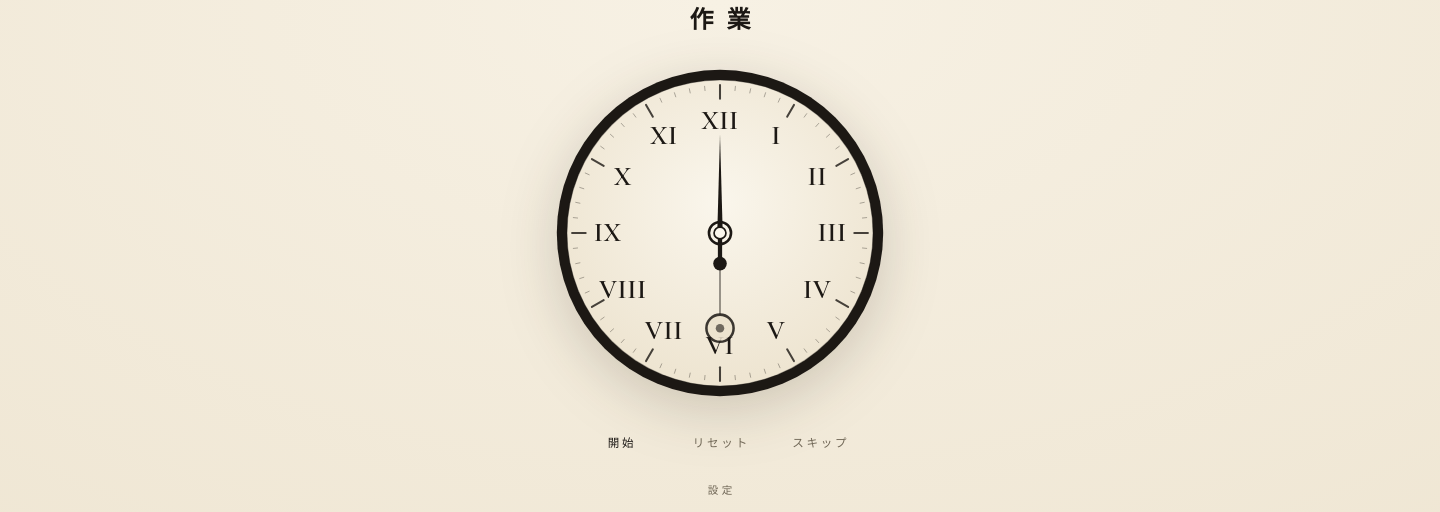
Test: PomodoroTimer › リセットで現フェーズの満了値に戻る
What coordinates should you click on to do the following:
click the button "開始"
I would click on:
 (622, 442)
Its box is x1=606 y1=431 x2=638 y2=453.
Wait 30000 ms
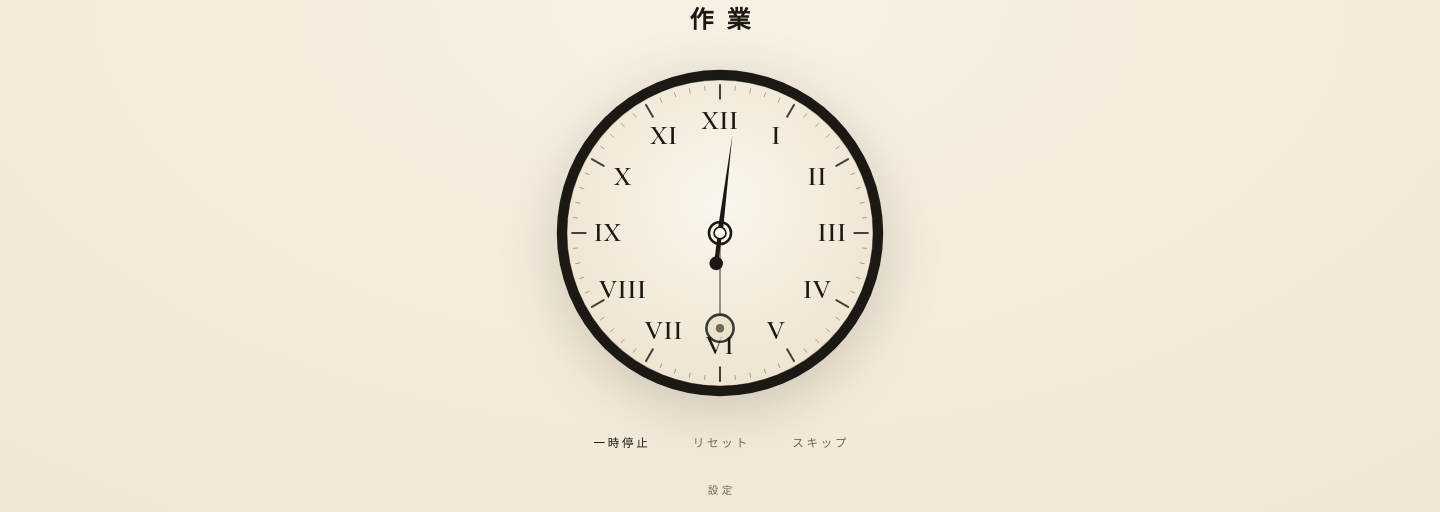
What coordinates should you click on to do the following:
click the button "リセット"
I would click on:
 (721, 442)
Its box is x1=691 y1=431 x2=752 y2=453.
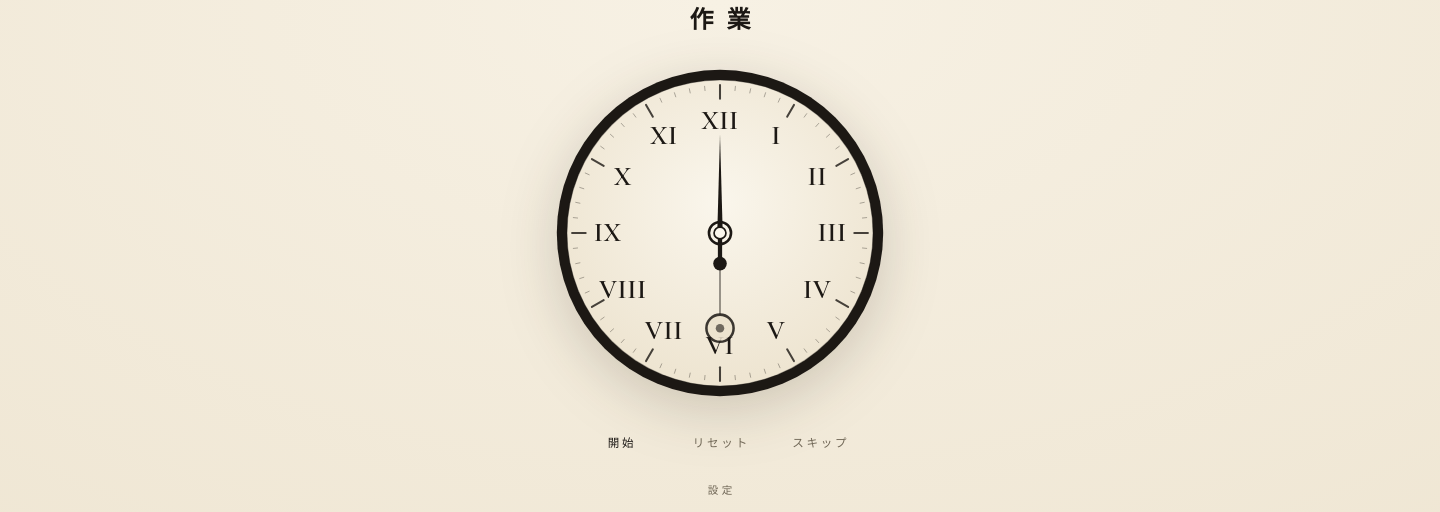
Result: the button "開始" is shown at x1=606 y1=431 x2=638 y2=453
